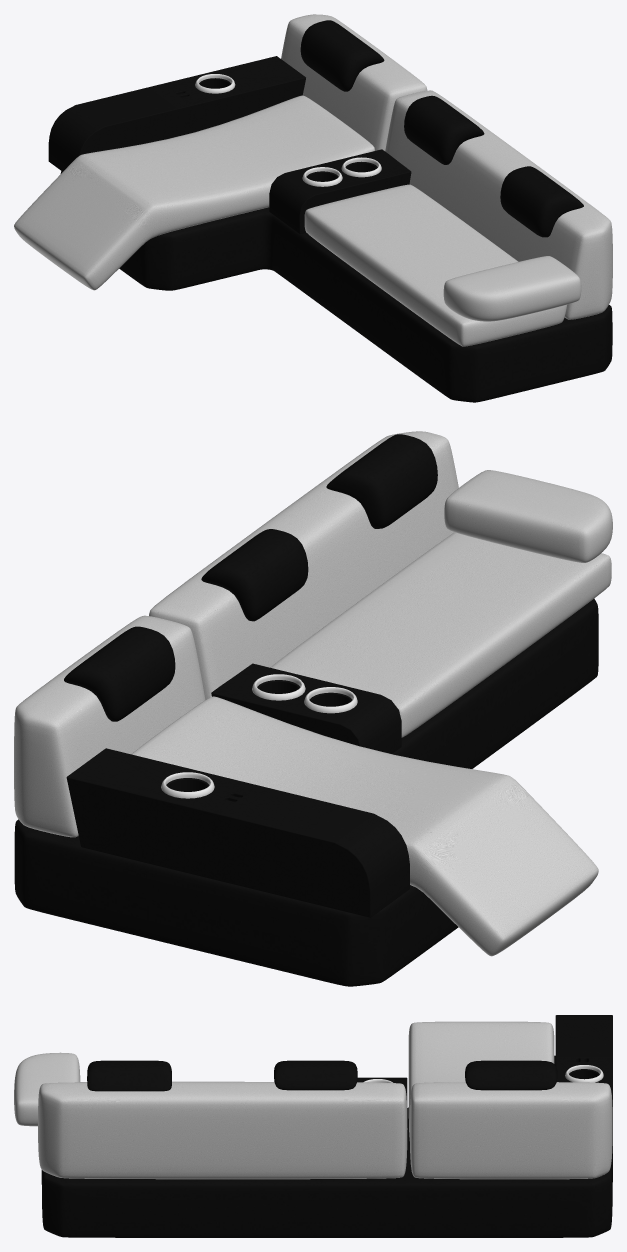
The model's file is giant_sofa_1.glb.
3 views of the same model, one above another, from view 1: azimuth 30°, elevation 25°; view 2: azimuth 150°, elevation 25°; view 3: azimuth 270°, elevation 25° (orthographic). The views are drawn at different scales.
Parts seen in each view (by area): view 1: Plane.003, Plane.001, Plane.002, Plane.006, Plane.004, Plane.005; view 2: Plane.003, Plane.001, Plane.006, Plane.002, Plane.004, Plane.005, Circle.001, Circle.003, Circle.005; view 3: Plane.002, Plane.001, Plane.004, Plane.003, Plane.006, Plane.005, Circle.005.
Boxes of the visible parts, x1,y1,x2,y2 form: Plane.003: (14, 95, 566, 346); Plane.001: (60, 171, 612, 402); Plane.002: (281, 14, 612, 319); Plane.006: (48, 56, 411, 233); Plane.004: (300, 20, 583, 237); Plane.005: (443, 256, 581, 321); Plane.003: (131, 532, 611, 956); Plane.001: (14, 598, 598, 986); Plane.006: (66, 663, 409, 917); Plane.002: (14, 431, 458, 837); Plane.004: (64, 434, 437, 721); Plane.005: (444, 470, 612, 562); Circle.001: (304, 687, 357, 713); Circle.003: (252, 674, 305, 700); Circle.005: (161, 772, 214, 798); Plane.002: (38, 1082, 612, 1179); Plane.001: (41, 1055, 612, 1237); Plane.004: (87, 1060, 557, 1091); Plane.003: (80, 1021, 554, 1140); Plane.006: (357, 1015, 612, 1154); Plane.005: (14, 1052, 80, 1126); Circle.005: (565, 1065, 603, 1082).
Bounding box in the file's own units: 4.19 × 1.9 × 6.5.
3 materials, 2 textured.
